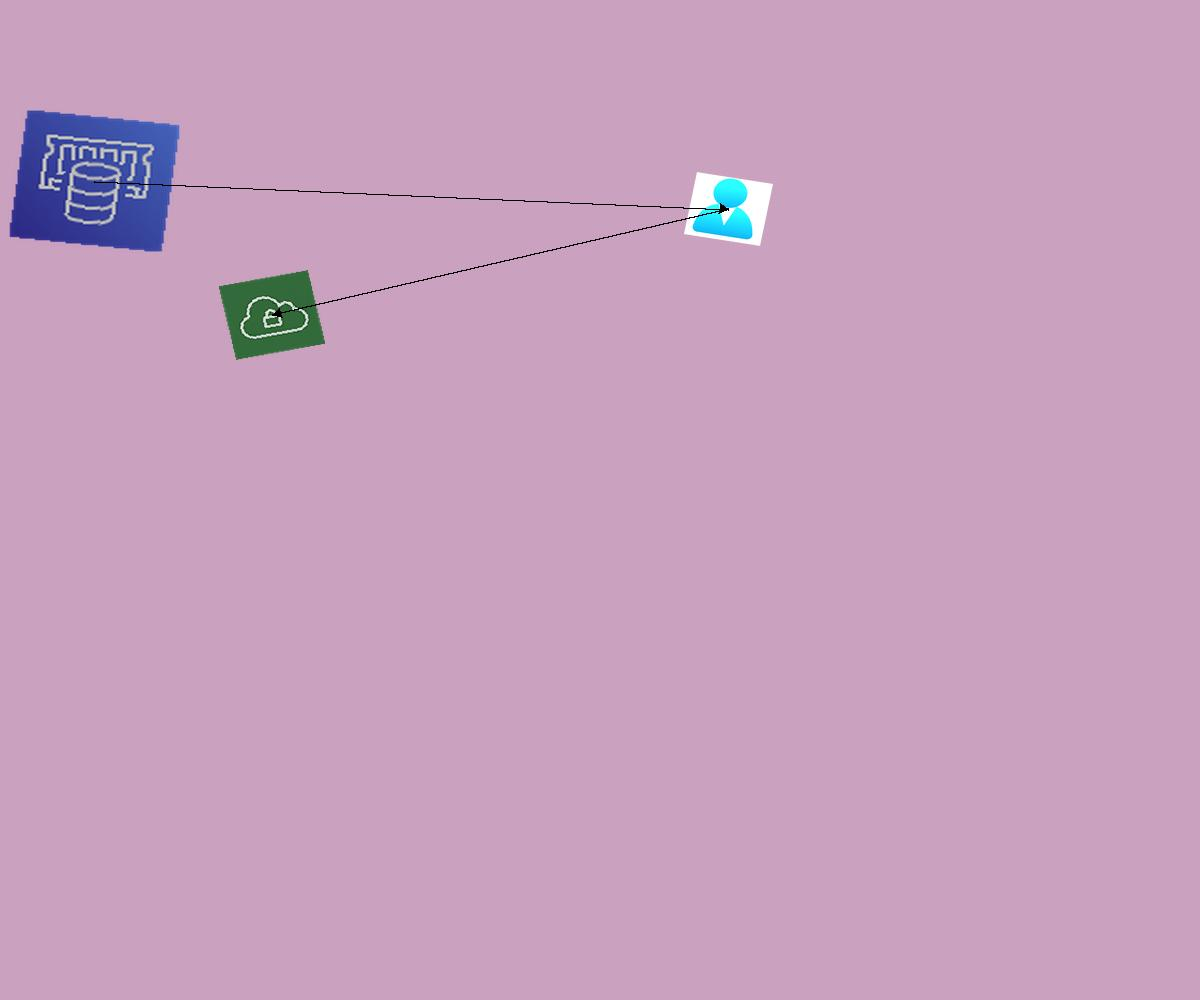AWS-ElastiCache: (8, 109, 181, 253)
AWS-Private_vpc: (218, 270, 326, 360)
Azure_users: (684, 172, 773, 246)
